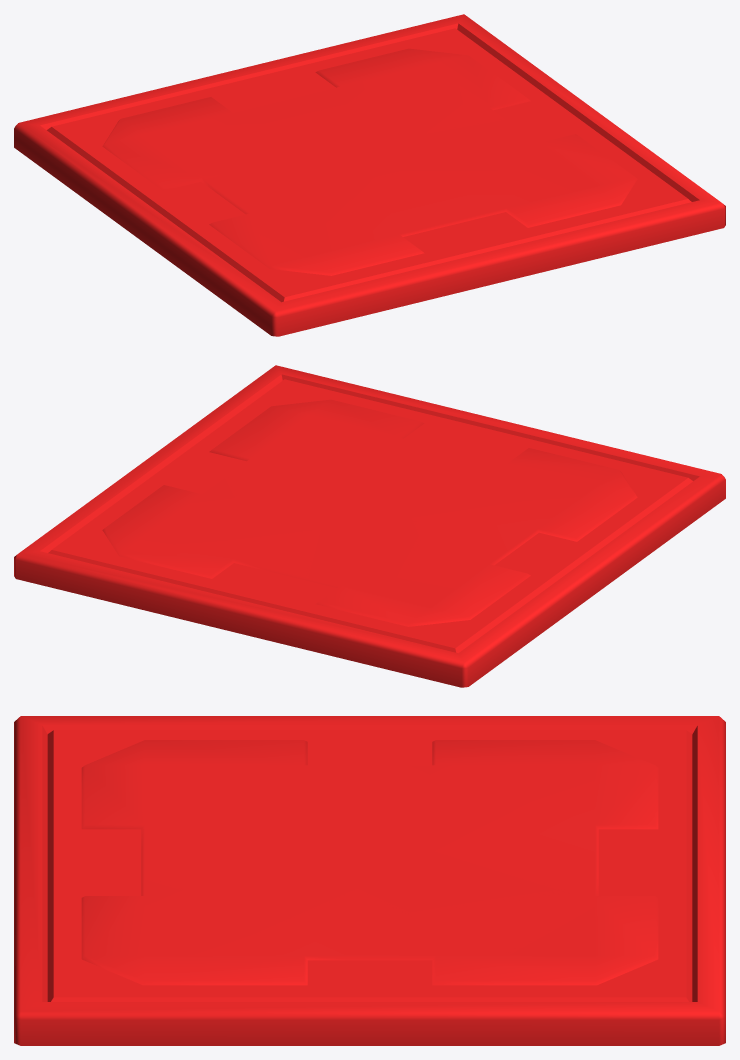
File: SM_Floor_500x500.FBX
3 views of the same model, one above another, from view 1: azimuth 30°, elevation 25°; view 2: azimuth 150°, elevation 25°; view 3: azimuth 270°, elevation 25° (orthographic). The views are drawn at different scales.
Visible parts, largest first — view 1: Floor500x500; view 2: Floor500x500; view 3: Floor500x500.
Part boxes in pixels (x1,y1,x2,y2): Floor500x500: [14, 14, 725, 336]; Floor500x500: [14, 365, 725, 687]; Floor500x500: [14, 716, 725, 1045].
Bounding box in the file's own units: 199 × 10.82 × 199.
